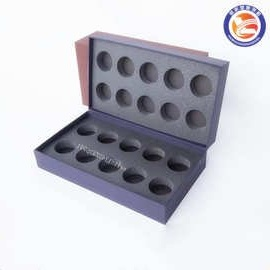5/可回收垃圾/泡沫: (35, 109, 207, 225), (87, 31, 229, 147)
